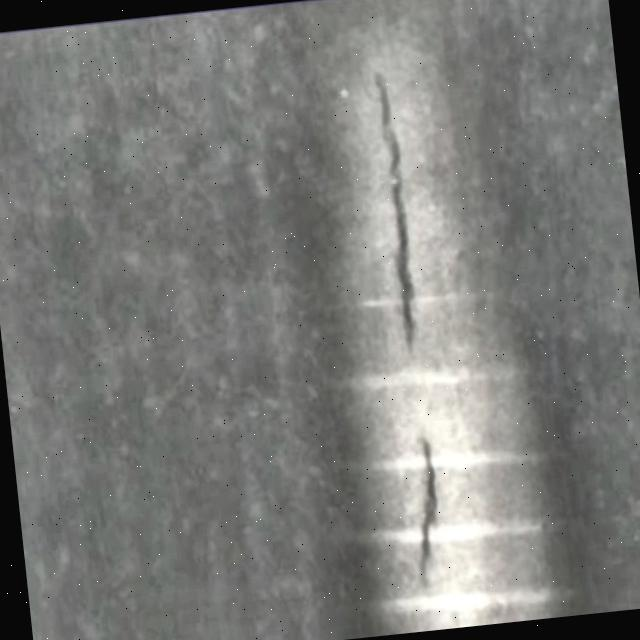Crack: (336, 32, 456, 374), (378, 433, 472, 593)
